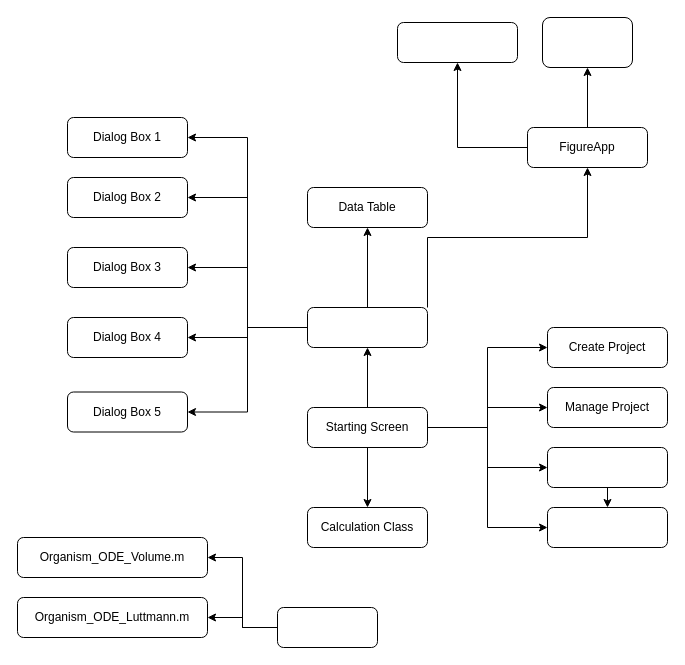
Some shapes in this 685 by 665 pixel diagram are drawn without their labels. Here are the shapes that lost their labels. From the top down, the box of each, then its label:
(396, 22, 518, 62): Figure App Settings
(542, 16, 632, 68): FigureApp Template Manager
(306, 306, 428, 348): ControllApp
(546, 446, 668, 488): Model Configurator
(546, 506, 668, 548): Model Creator
(276, 606, 378, 648): Organism.m
